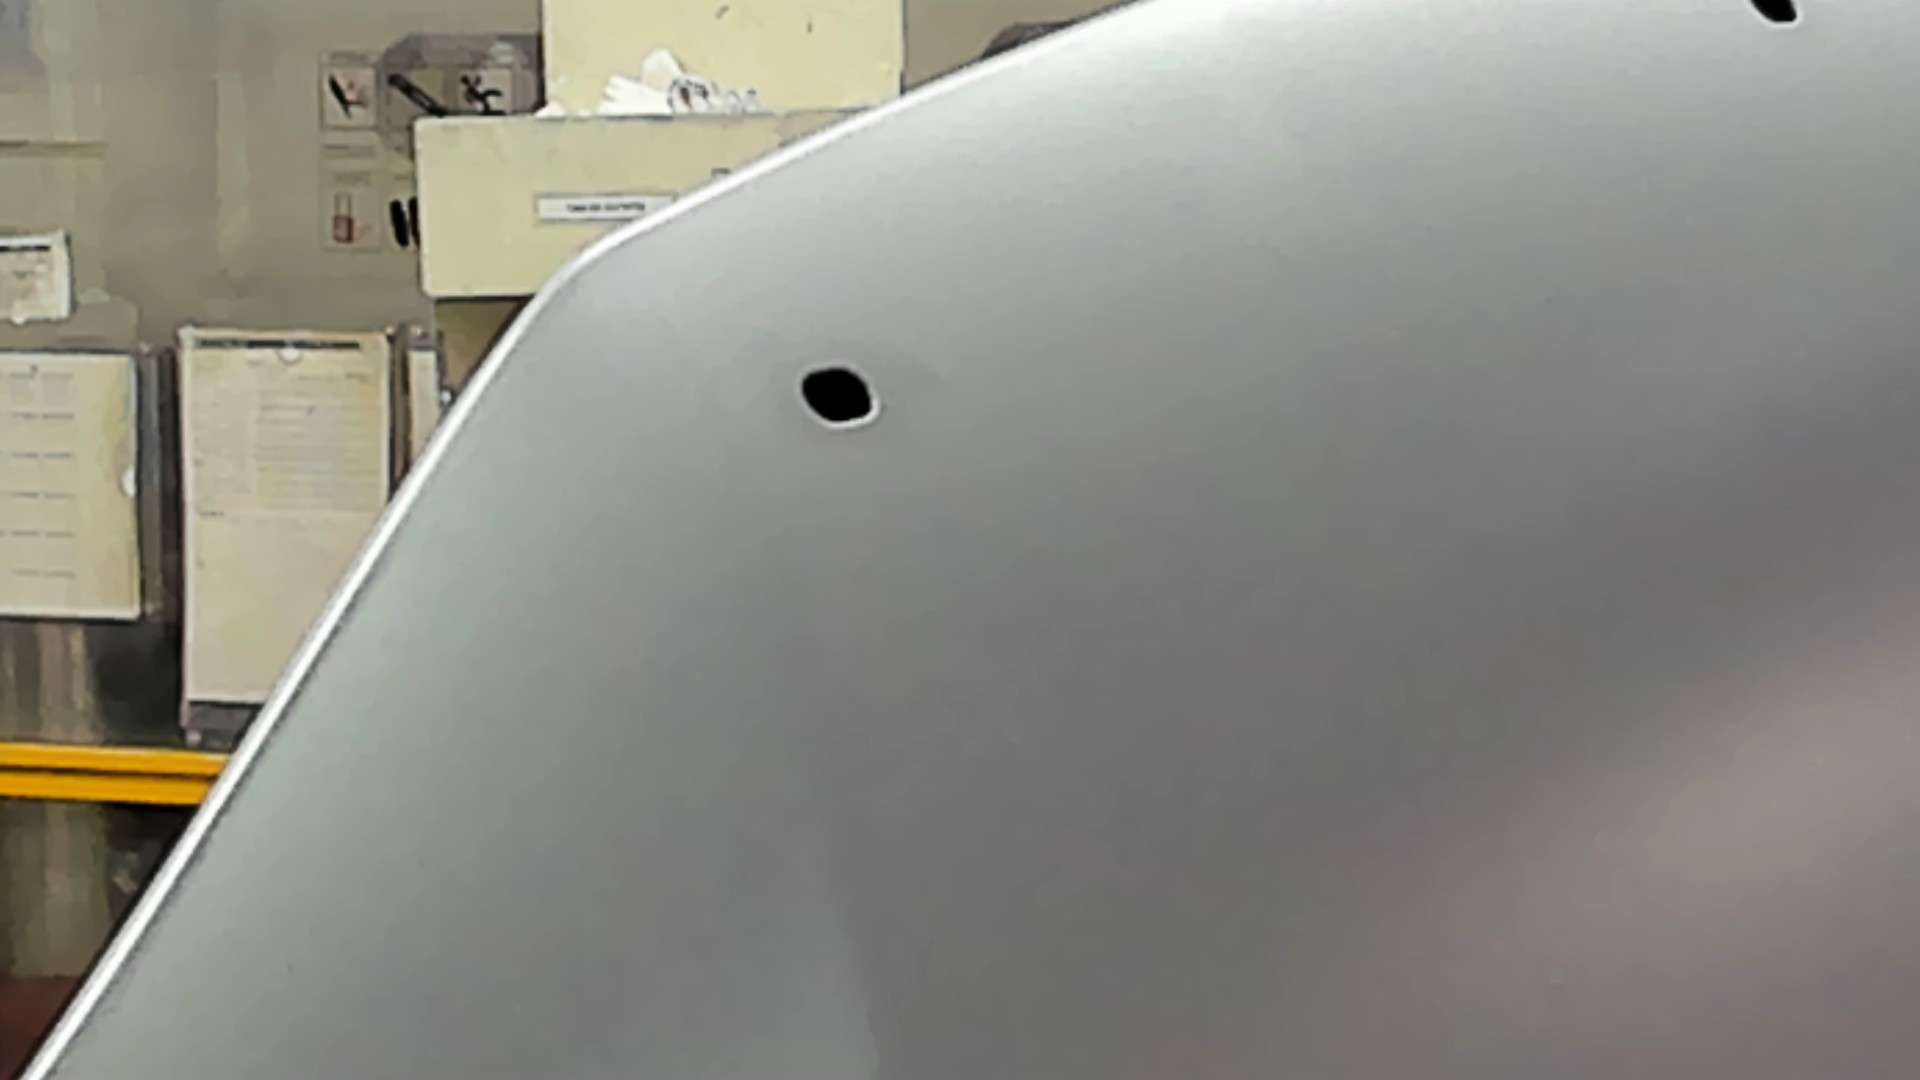amorfo: (793, 357, 891, 436), (1747, 1, 1809, 37)
capo: (998, 111, 1920, 1080)
